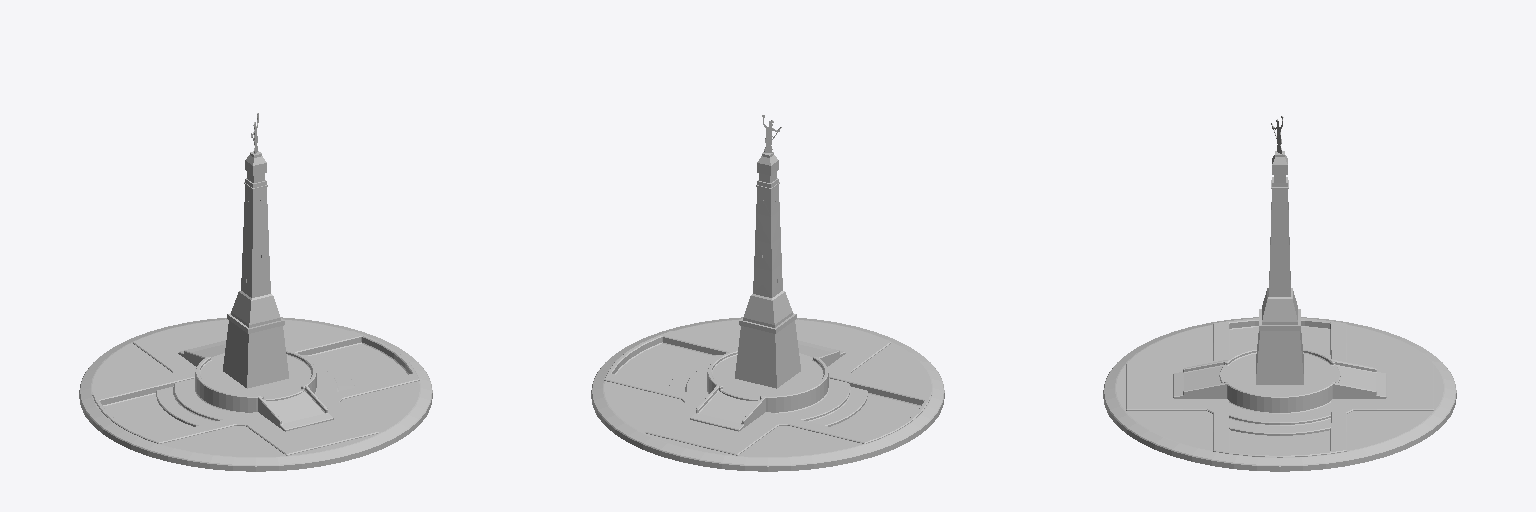
File: monument.obj
3 views of the same model, side by side, from view 1: azimuth 30°, elevation 25°; view 2: azimuth 150°, elevation 25°; view 3: azimuth 270°, elevation 25° (orthographic).
Bounding box in the file's own units: 3225 × 2843 × 3225.